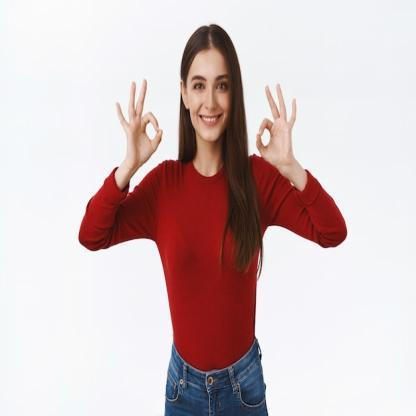ok: (113, 76, 164, 166), (252, 77, 298, 176)
